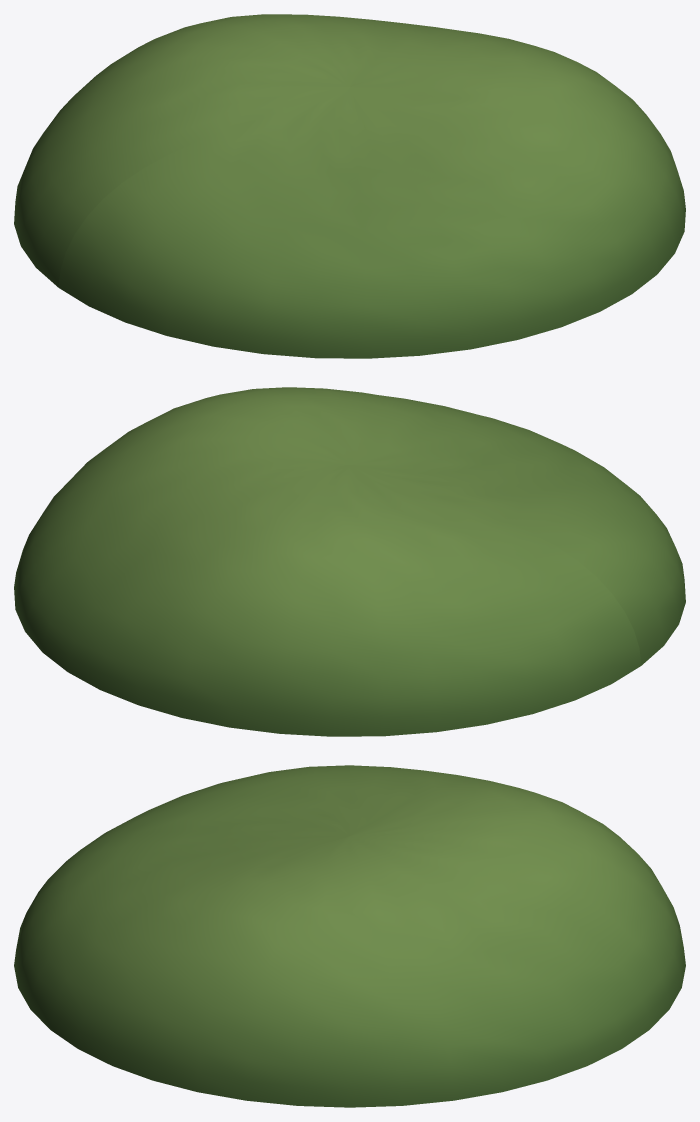
File: morro.glb
3 views of the same model, one above another, from view 1: azimuth 30°, elevation 25°; view 2: azimuth 150°, elevation 25°; view 3: azimuth 270°, elevation 25° (orthographic).
Parts seen in each view (by area): view 1: morro; view 2: morro; view 3: morro.
Boxes of the visible parts, <box> form: morro: <box>14,14,685,358</box>; morro: <box>14,387,685,736</box>; morro: <box>14,765,685,1107</box>.
Bounding box in the file's own units: 60 × 13.45 × 60.
